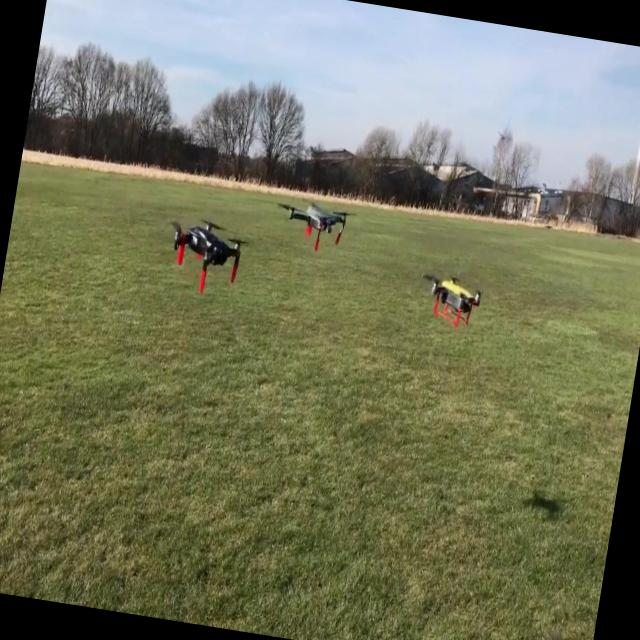drone: (156, 210, 250, 303), (267, 192, 361, 258), (412, 268, 487, 335)
